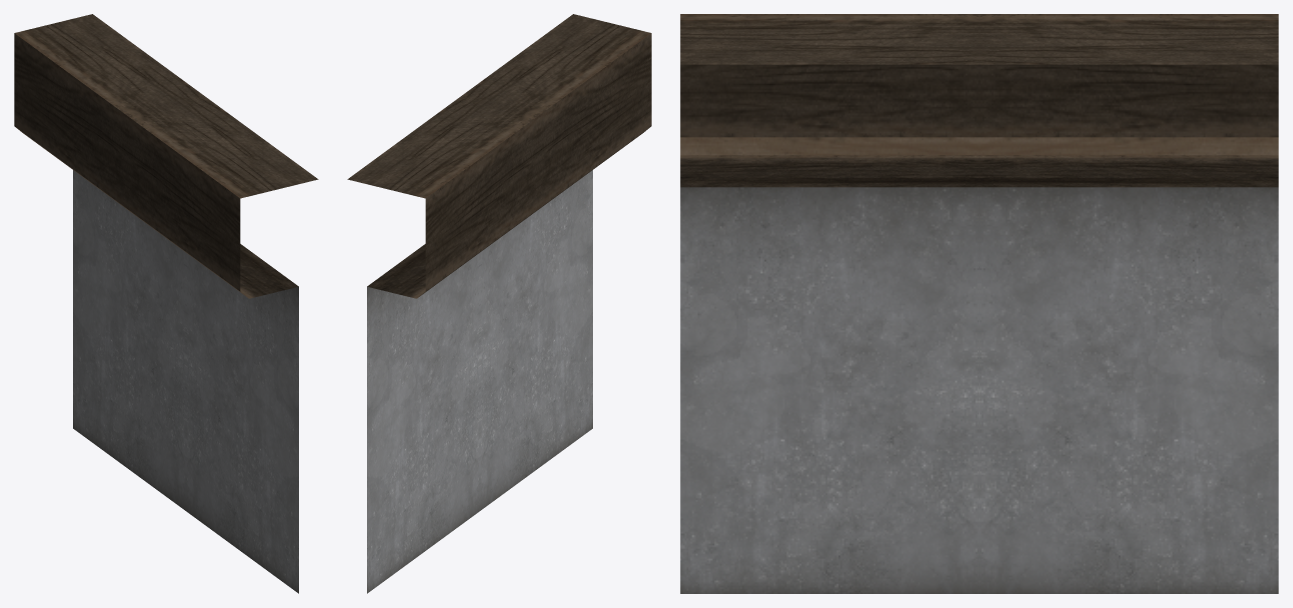
File: Wall Interior Top 2x2 Plaster A.fbx
3 views of the same model, side by side, from view 1: azimuth 30°, elevation 25°; view 2: azimuth 150°, elevation 25°; view 3: azimuth 270°, elevation 25° (orthographic). The views are drawn at different scales.
Visible parts, largest first — view 1: Wall Interior Top 2x2 Plaster A; view 2: Wall Interior Top 2x2 Plaster A; view 3: Wall Interior Top 2x2 Plaster A.
Part boxes in pixels (x1=…): Wall Interior Top 2x2 Plaster A: x1=14, y1=14, x2=318, y2=593; Wall Interior Top 2x2 Plaster A: x1=347, y1=14, x2=651, y2=593; Wall Interior Top 2x2 Plaster A: x1=680, y1=14, x2=1278, y2=593.
Size of the model in its own units: 0.4 by 2 by 2.
